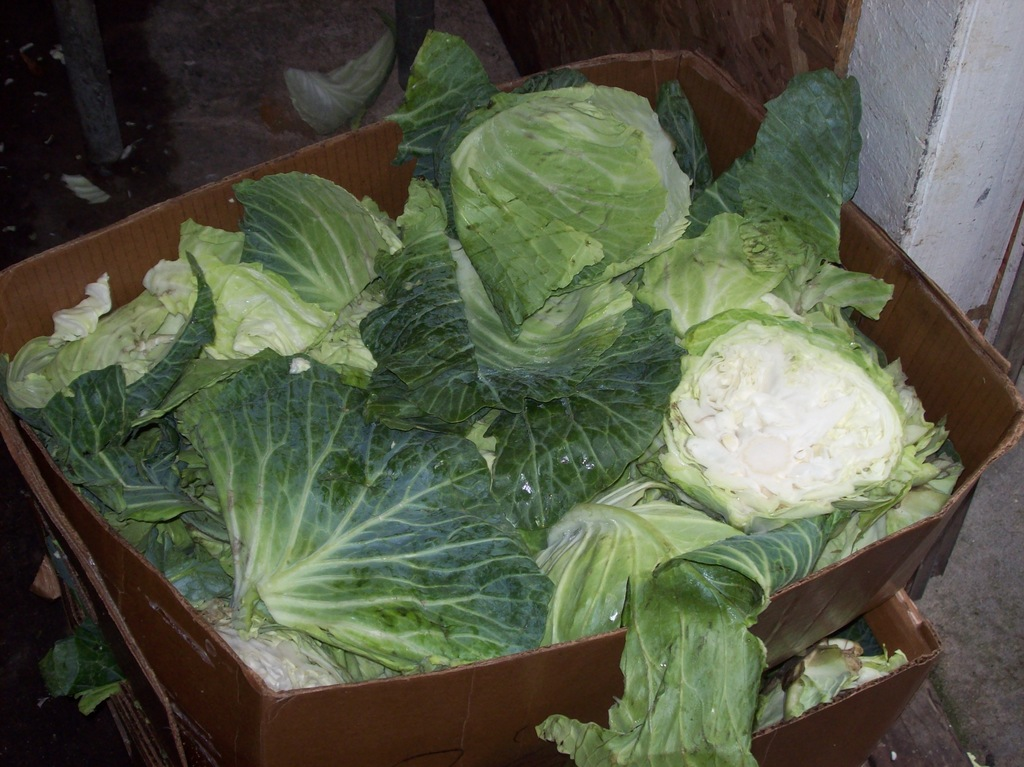Cabbage: (0, 26, 971, 766)
